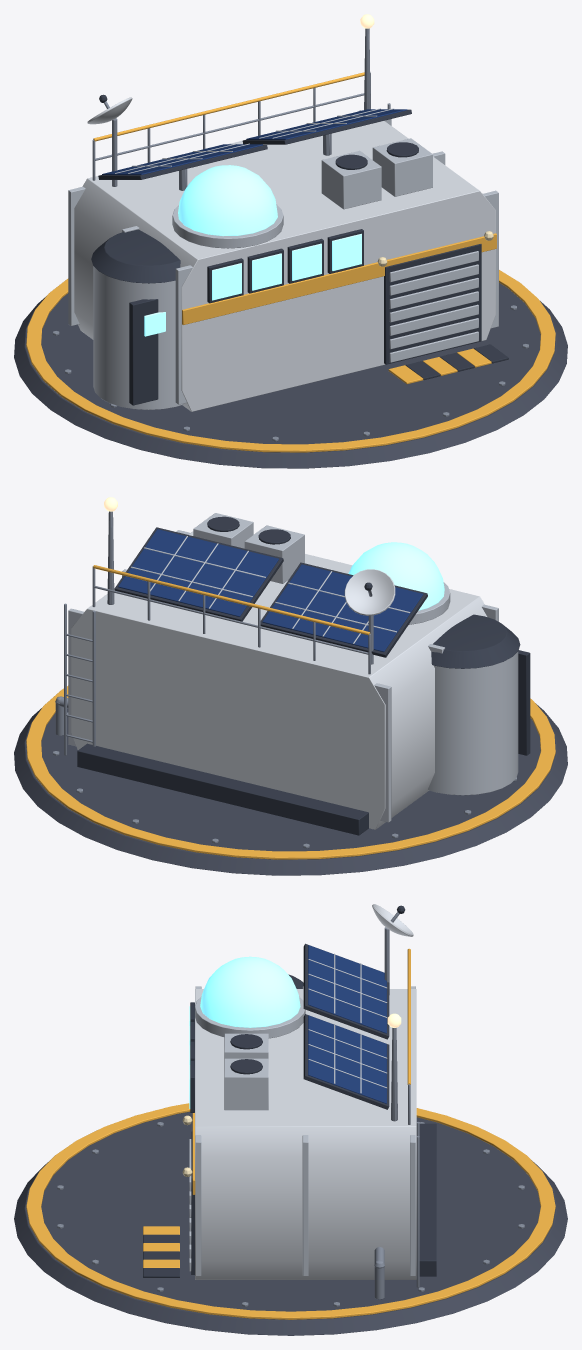
3 renders of one model, top to bottom at view 1: azimuth 30°, elevation 25°; view 2: azimuth 150°, elevation 25°; view 3: azimuth 270°, elevation 25°, orthographic.
Parts seen in each view (by area): view 1: hq_Koerper; view 2: hq_Koerper; view 3: hq_Koerper.
Boxes of the visible parts, x1,y1,x2,y2 form: hq_Koerper: (14,14,567,468); hq_Koerper: (14,497,567,875); hq_Koerper: (14,904,567,1335).
Bounding box in the file's own units: 7.49 × 3.99 × 7.49.
